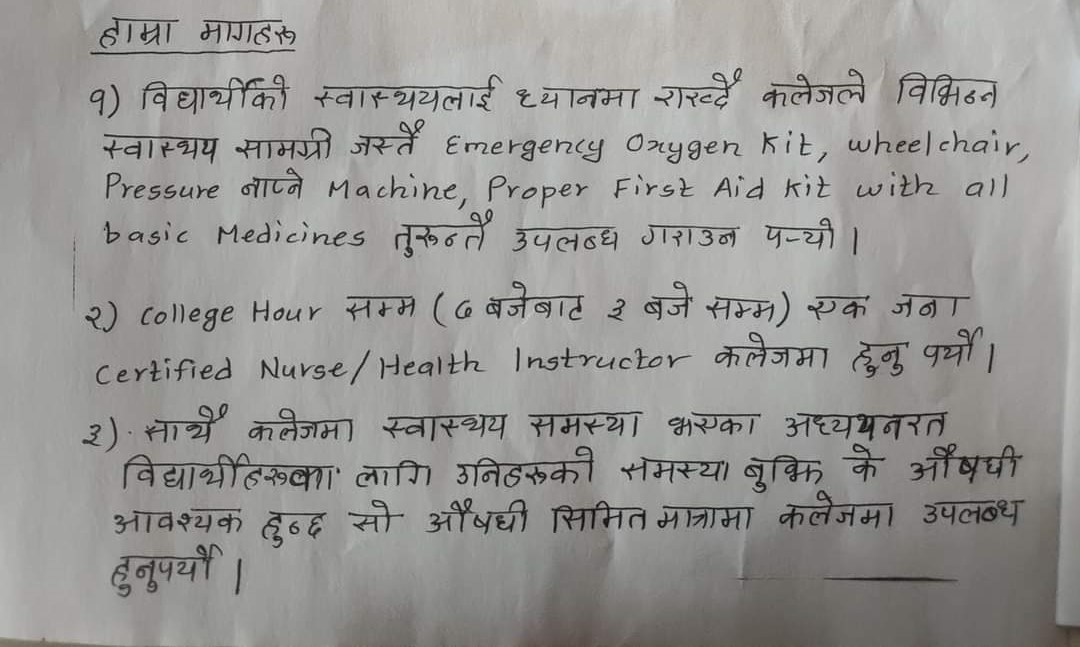text: (120, 450, 340, 493), (310, 72, 502, 114), (140, 71, 289, 120), (110, 541, 225, 600), (455, 444, 598, 490), (783, 408, 949, 442), (391, 207, 497, 259), (775, 491, 898, 532), (709, 330, 829, 372), (426, 495, 531, 541), (482, 280, 590, 324), (909, 443, 1021, 485), (246, 406, 359, 447), (514, 81, 641, 117), (99, 129, 220, 166), (653, 67, 750, 112), (110, 506, 243, 537), (618, 453, 732, 488), (381, 410, 510, 440), (550, 498, 650, 536), (140, 403, 231, 444), (525, 408, 641, 440), (347, 116, 427, 162), (509, 225, 624, 257), (741, 450, 826, 493), (233, 125, 334, 161), (637, 219, 742, 253), (653, 501, 754, 536), (197, 13, 298, 47), (922, 495, 1025, 528), (256, 508, 329, 549), (238, 164, 308, 206), (95, 14, 180, 48), (764, 214, 839, 251), (667, 409, 761, 438), (343, 290, 423, 324), (886, 290, 971, 322), (352, 458, 434, 491), (920, 328, 986, 366), (643, 278, 694, 326), (702, 293, 778, 325), (849, 340, 908, 379), (804, 292, 873, 321), (350, 499, 395, 535), (846, 443, 883, 484), (605, 295, 639, 325), (83, 301, 104, 336), (84, 87, 111, 113), (79, 421, 104, 449), (452, 297, 477, 320)
